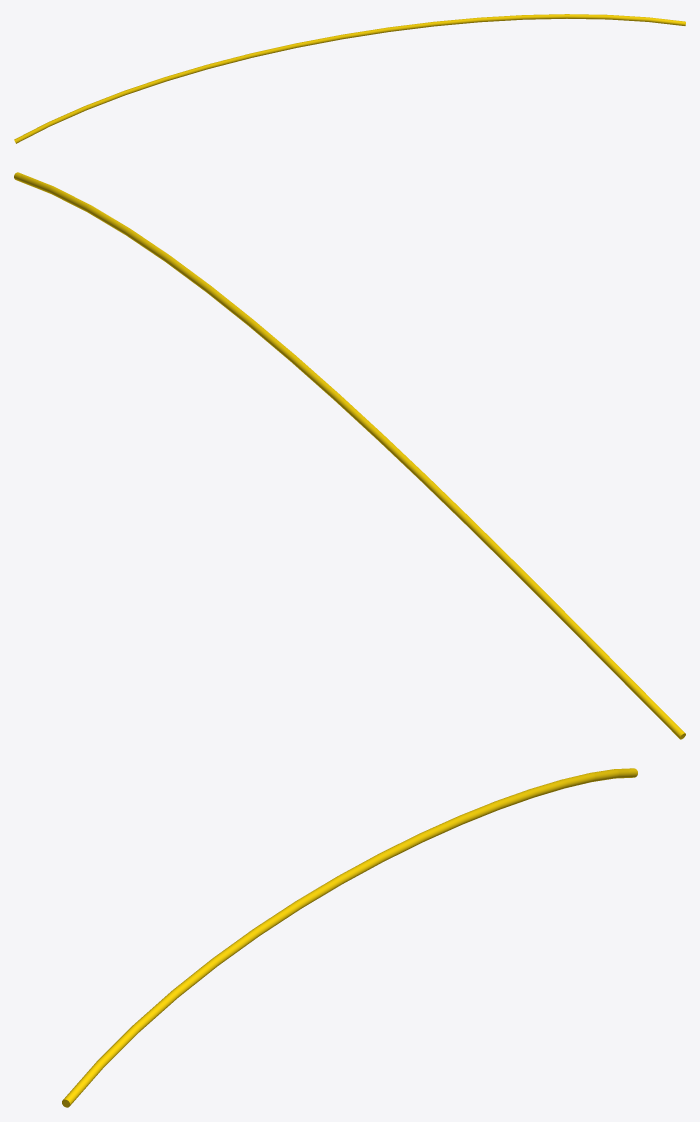
Rendered from Event_421364160_track_3.fbx.
3 views of the same model, one above another, from view 1: azimuth 30°, elevation 25°; view 2: azimuth 150°, elevation 25°; view 3: azimuth 270°, elevation 25° (orthographic). The views are drawn at different scales.
Visible parts, largest first — view 1: Model; view 2: Model; view 3: Model.
Part boxes in pixels (x1,y1,x2,y2): Model: [14, 14, 685, 143]; Model: [14, 172, 685, 739]; Model: [62, 768, 637, 1107].
Bounding box in the file's own units: 5.18 × 0.9962 × 2.44.
